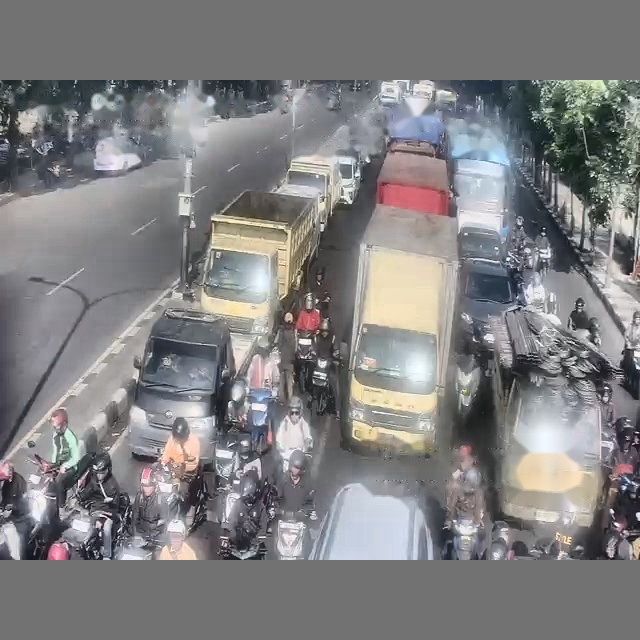Mobil: (308, 483, 440, 559), (460, 258, 517, 348), (93, 135, 148, 173), (458, 226, 503, 261)
Motor: (155, 463, 209, 533), (603, 474, 639, 559), (61, 505, 109, 559), (276, 510, 316, 559), (248, 387, 276, 455), (455, 355, 482, 419), (311, 358, 334, 415), (296, 331, 315, 394), (218, 535, 266, 559), (450, 520, 479, 559), (116, 536, 160, 560), (623, 348, 639, 398), (536, 247, 550, 281)
Truk: (339, 205, 458, 454), (488, 309, 619, 528), (128, 301, 256, 462), (200, 190, 320, 335), (376, 152, 450, 216), (284, 154, 341, 223)
